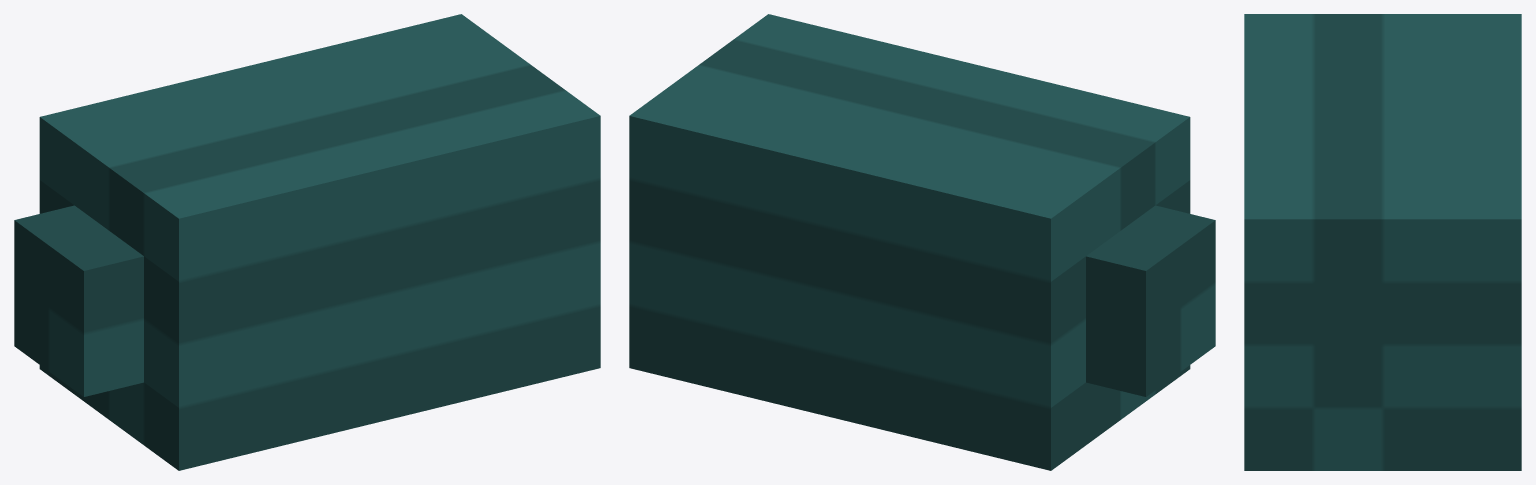
Rendered from Shoulder044.fbx.
3 renders of one model, left to right at view 1: azimuth 30°, elevation 25°; view 2: azimuth 150°, elevation 25°; view 3: azimuth 270°, elevation 25°, orthographic.
Parts seen in each view (by area): view 1: Shoulder044; view 2: Shoulder044; view 3: Shoulder044.
Boxes of the visible parts, <box> form: Shoulder044: <box>14,14,600,470</box>; Shoulder044: <box>629,14,1215,470</box>; Shoulder044: <box>1244,14,1521,470</box>.
Bounding box in the file's own units: 8 × 4 × 4.
